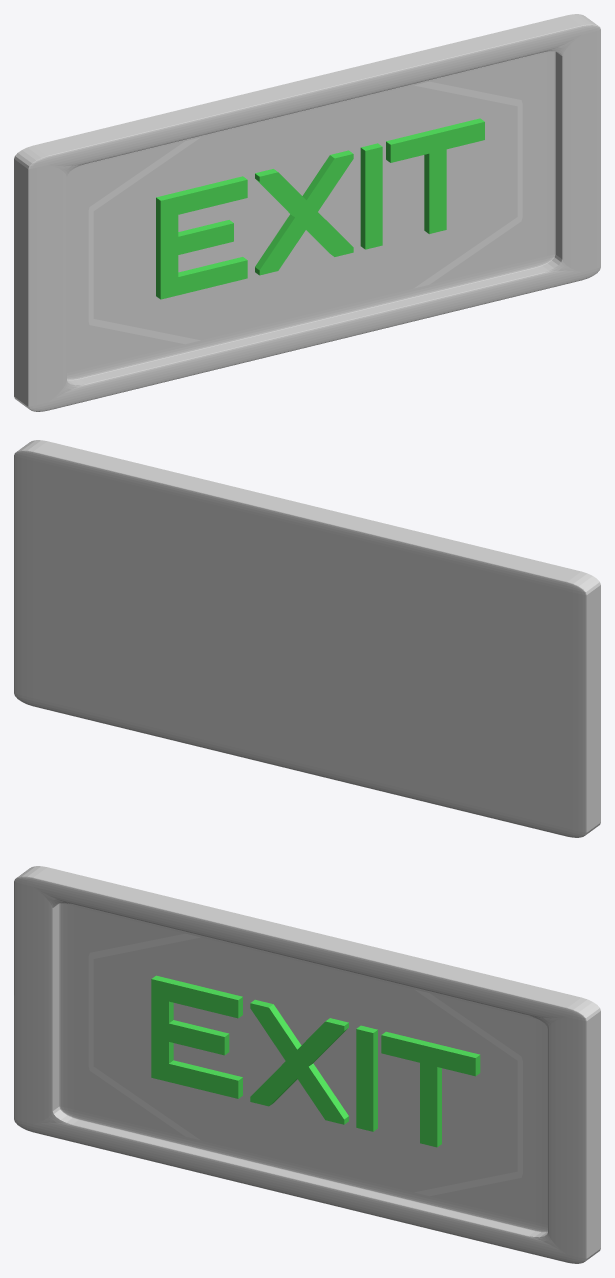
The model's file is ExitSign.fbx.
The picture shows the model from 3 angles, top to bottom: view 1: azimuth 30°, elevation 25°; view 2: azimuth 150°, elevation 25°; view 3: azimuth 330°, elevation 25°; orthographic projection.
Parts seen in each view (by area): view 1: Cube, Text.001, Plane; view 2: Cube; view 3: Cube, Text.001, Plane.
Part boxes in pixels (x1,y1,x2,y2): Cube: [14, 14, 600, 411]; Text.001: [156, 118, 484, 299]; Plane: [88, 81, 522, 344]; Cube: [14, 440, 600, 837]; Cube: [14, 866, 600, 1263]; Text.001: [151, 975, 480, 1147]; Plane: [88, 933, 522, 1196].
Size of the model in its own units: 354 by 151 by 16.37.
